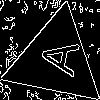A: (30, 35, 80, 77)
